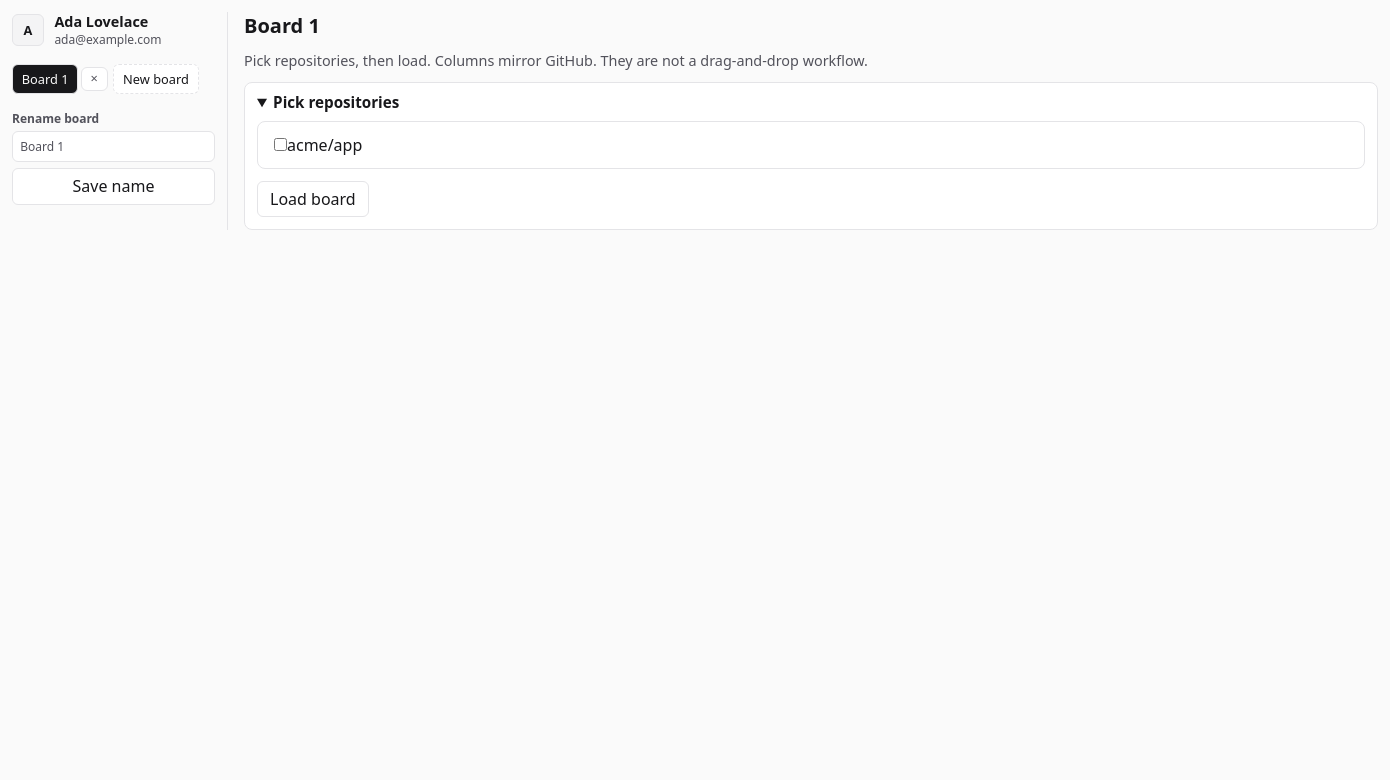
Test case: loads real issues after a successful pick and does not show sample titles
Expected: the text "acme/app" is shown, [274, 134, 362, 156]
Click the checkbox labelled "acme/app". click: (280, 144)
box: [274, 138, 287, 151]
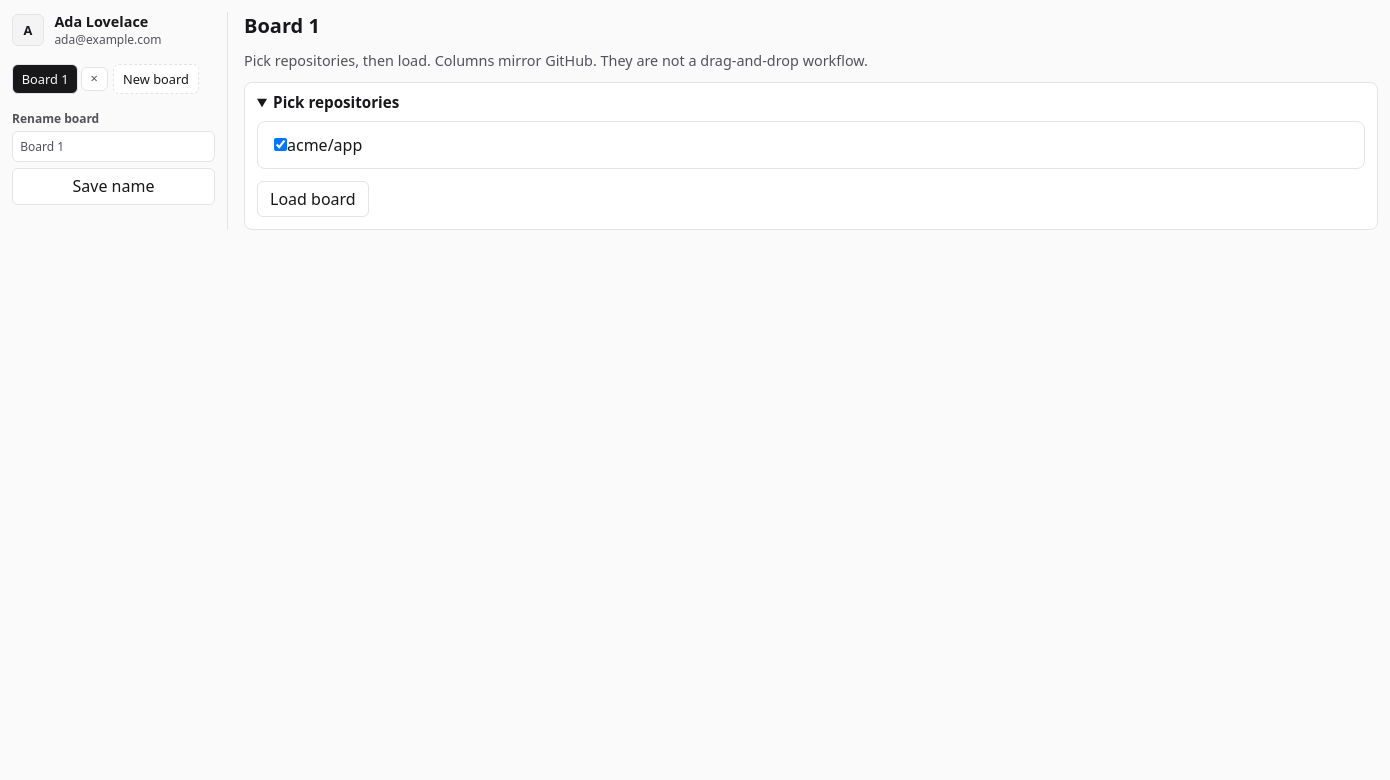
Click the button "Load board". click: (313, 199)
box: [257, 181, 369, 217]
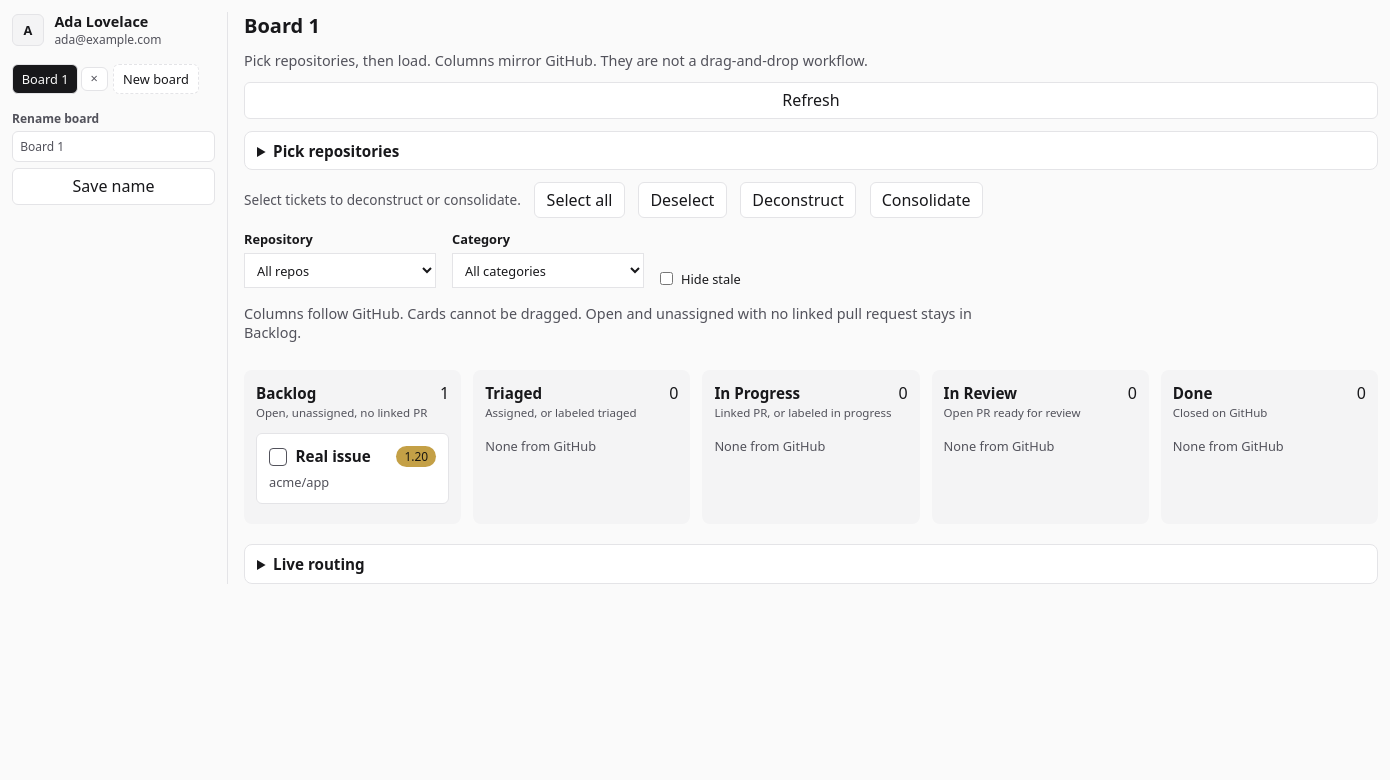
Now the heading "Real issue" is shown, box [295, 446, 371, 466]
